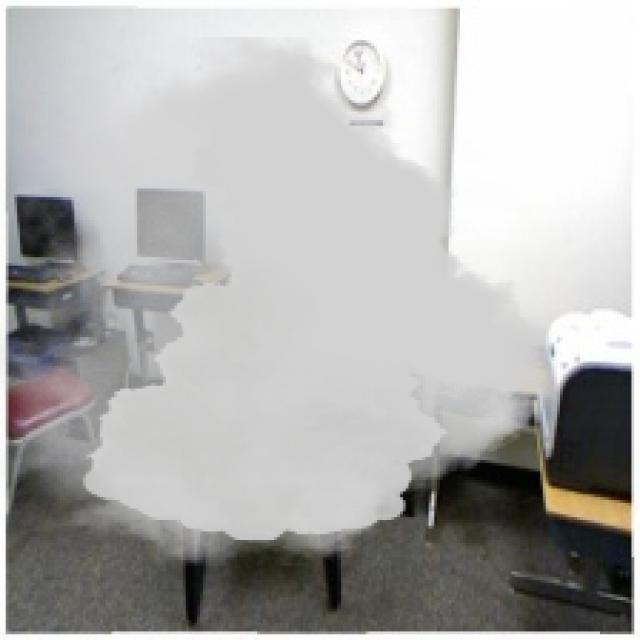Smoke: (0, 37, 552, 566)
